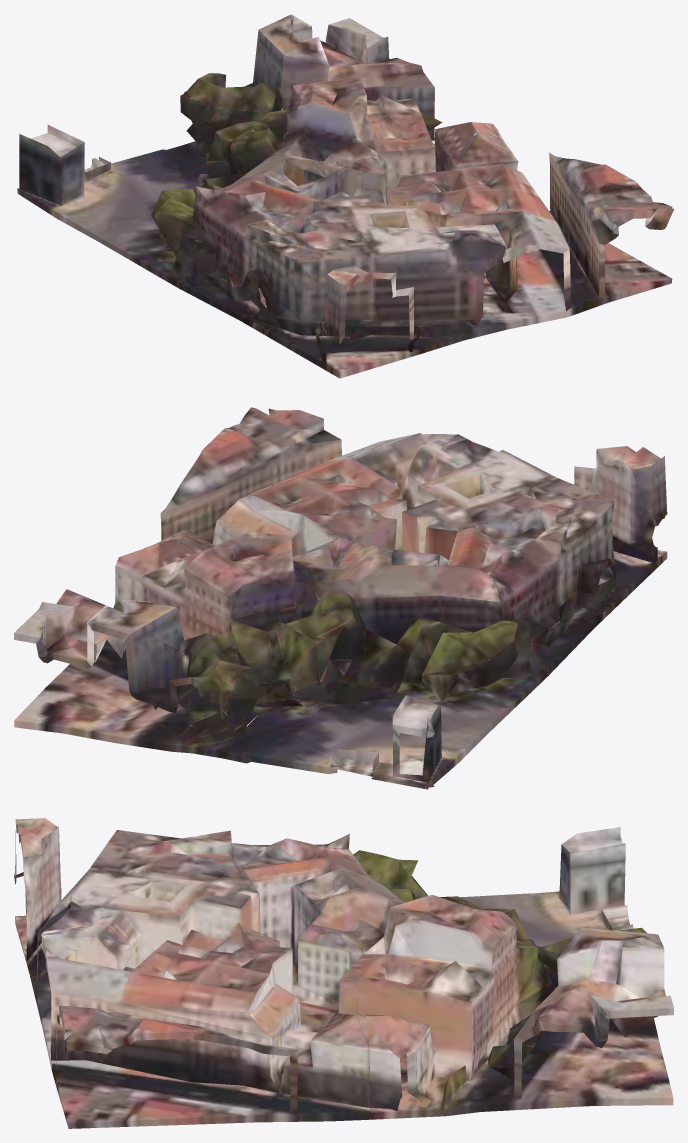
3 views of the same model, one above another, from view 1: azimuth 30°, elevation 25°; view 2: azimuth 150°, elevation 25°; view 3: azimuth 270°, elevation 25° (orthographic). The views are drawn at different scales.
Parts seen in each view (by area): view 1: Mesh_0; view 2: Mesh_0; view 3: Mesh_0.
Boxes of the visible parts, bbox=[...] form: Mesh_0: bbox=[17, 14, 673, 378]; Mesh_0: bbox=[14, 407, 667, 789]; Mesh_0: bbox=[14, 818, 673, 1128].
Size of the model in its own units: 135 by 36.61 by 165.
1 material, 1 textured.
